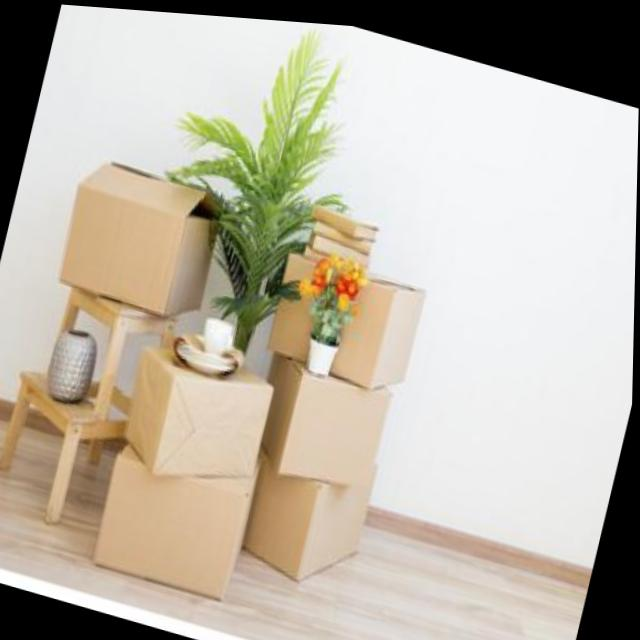box: (48, 142, 230, 339), (81, 432, 264, 613), (112, 326, 286, 503), (231, 438, 404, 606), (261, 238, 429, 394), (254, 350, 395, 498)
